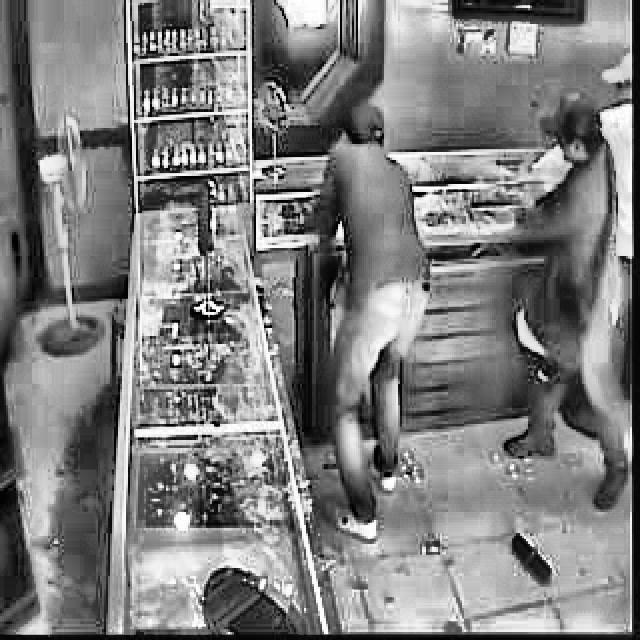robbery: (468, 90, 630, 516), (310, 102, 434, 548)
